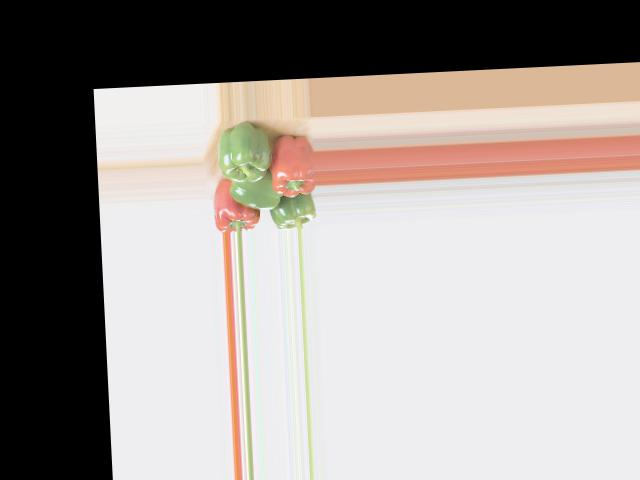bell_pepper: (266, 128, 315, 196)
